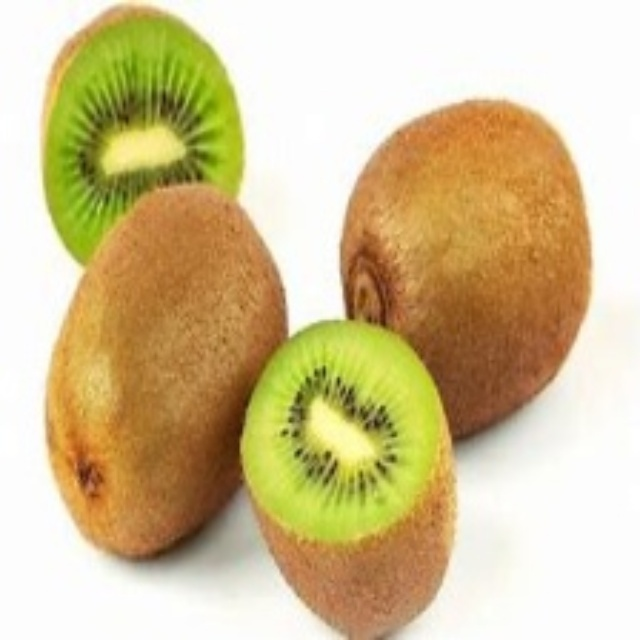kiwi: (18, 189, 292, 539), (332, 102, 605, 434), (236, 319, 460, 634), (32, 12, 265, 264)
